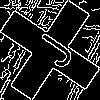J: (25, 25, 77, 71)
